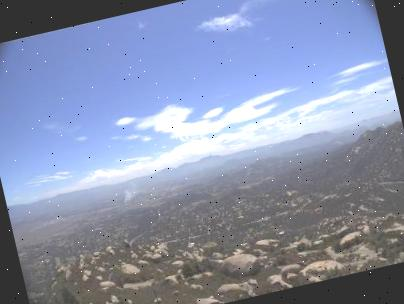smoke: (120, 178, 146, 204)
